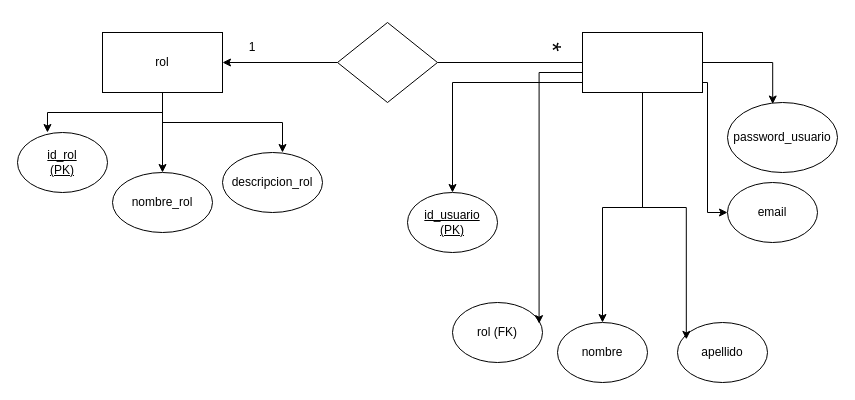
This 855x400 diagram has some shape labels left out. Here are the shapes that lost their labels. From the top down, the centre of each, then its label:
the point at 387,62: Tener
the point at 642,62: usuario_login
